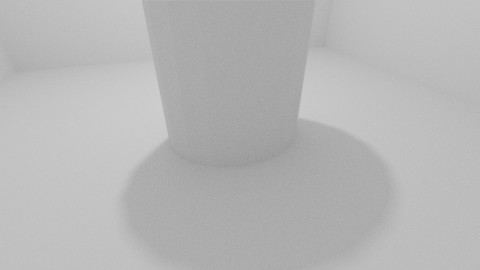cheminee: (142, 1, 316, 166)
